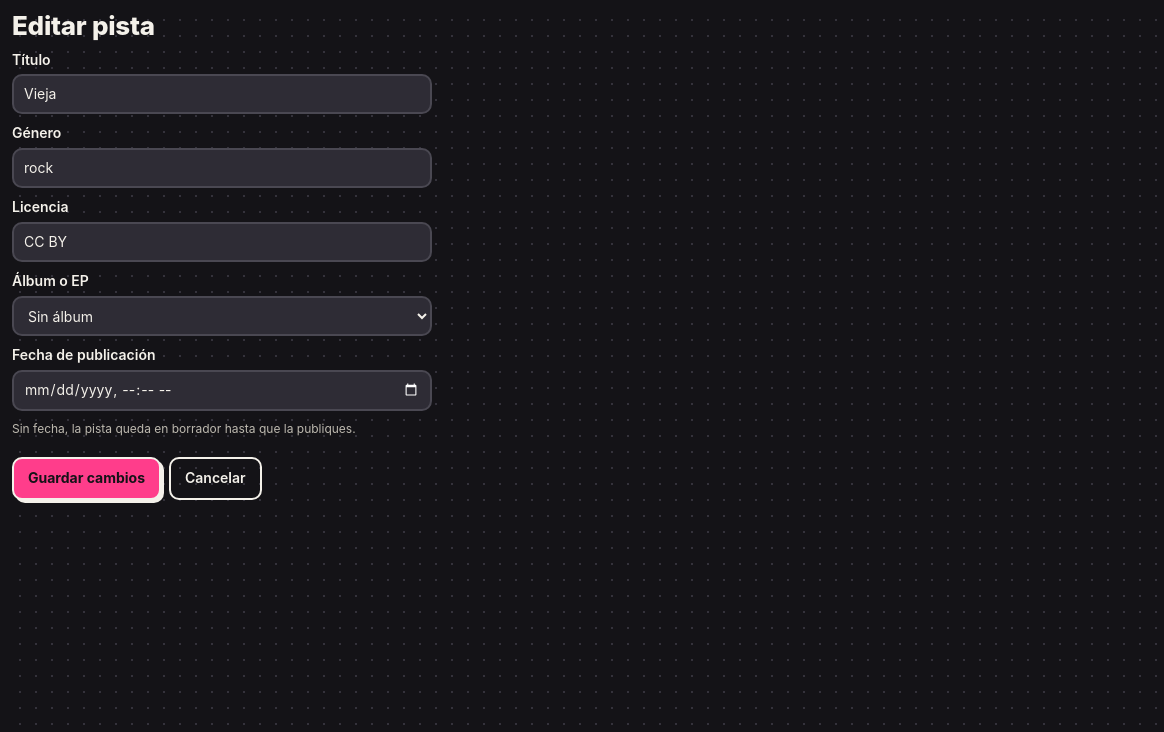
Scenario: muestra el error del servidor
Check: the field labelled "Título" is shown, box [12,74,432,114]
Click the button "Guardar cambios" at [86, 479], box [12,457,161,500]
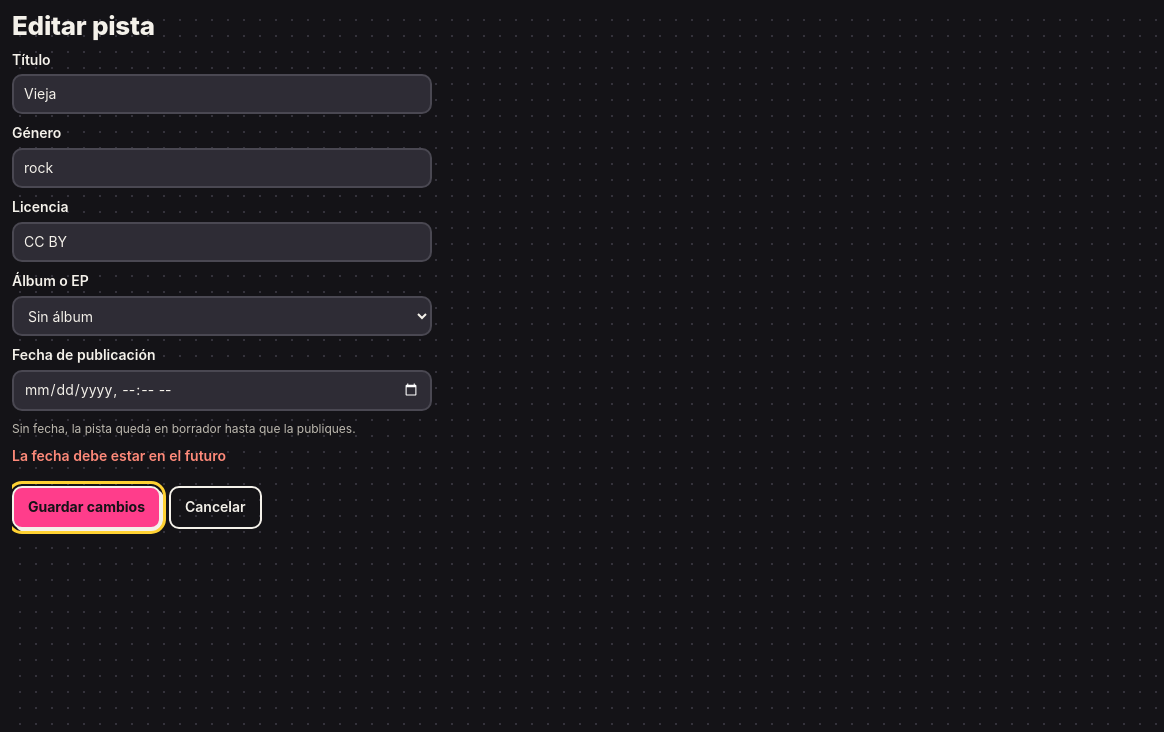
Check: the message reads "La fecha debe estar en el futuro", box [12,447,226,464]
